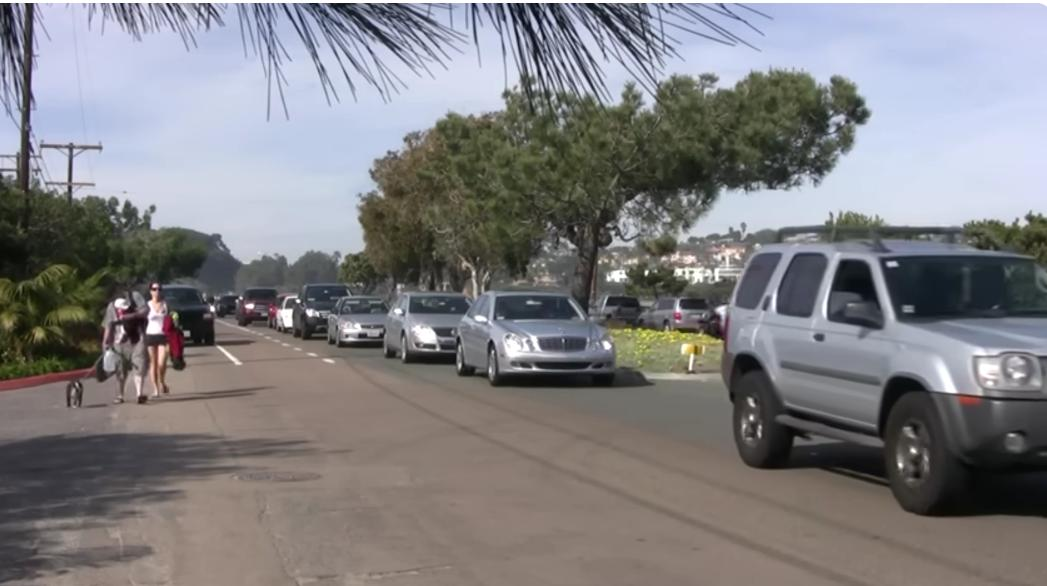car: (735, 223, 1047, 564), (459, 279, 609, 413), (166, 255, 232, 352), (652, 285, 716, 357), (299, 275, 343, 336)
dog: (63, 365, 106, 433)
pedestrian: (109, 275, 158, 402)
